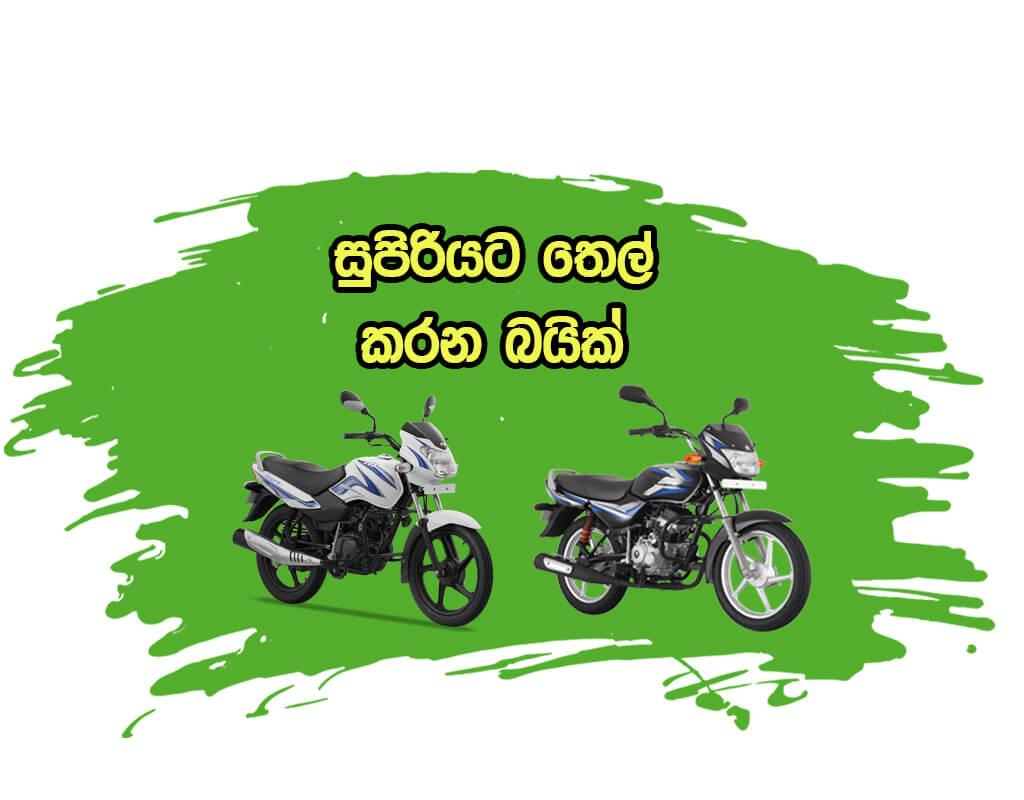motorbike: (534, 382, 811, 633), (231, 391, 491, 627)
